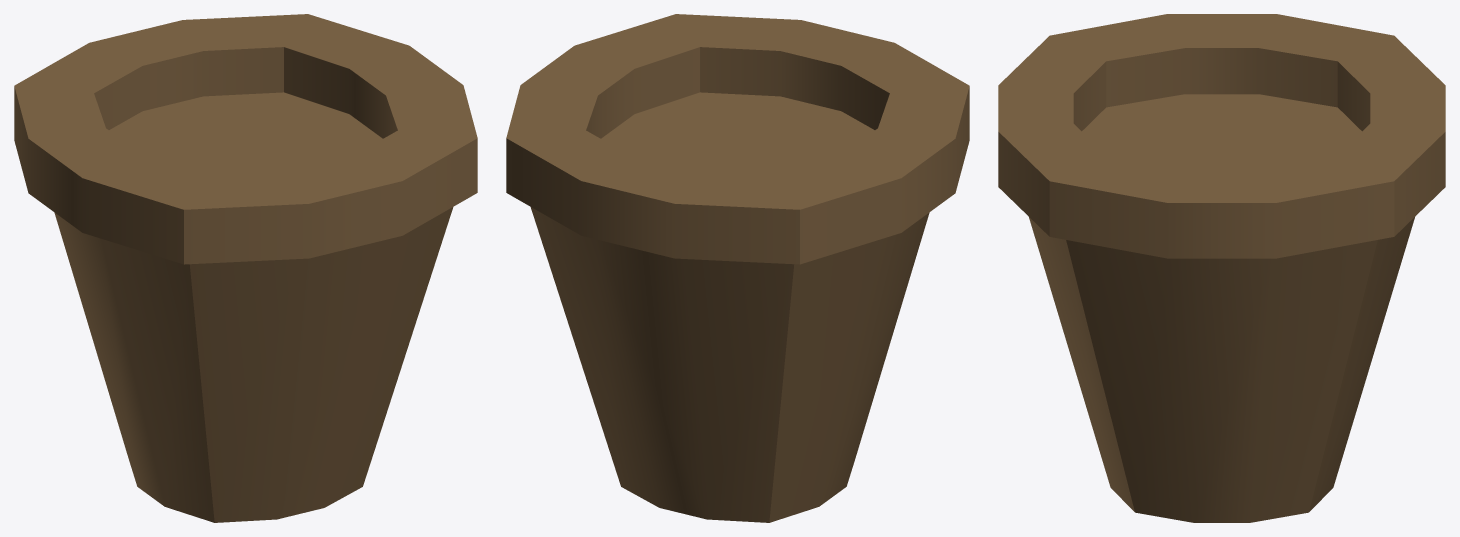
Rendered from PotModel.fbx.
3 views of the same model, side by side, from view 1: azimuth 30°, elevation 25°; view 2: azimuth 150°, elevation 25°; view 3: azimuth 270°, elevation 25° (orthographic).
Visible parts, largest first — view 1: Pot; view 2: Pot; view 3: Pot.
Boxes of the visible parts, <box> form: Pot: <box>14,14,477,522</box>; Pot: <box>506,14,969,522</box>; Pot: <box>998,14,1445,522</box>.
Bounding box in the file's own units: 1.1 × 1 × 1.1.
